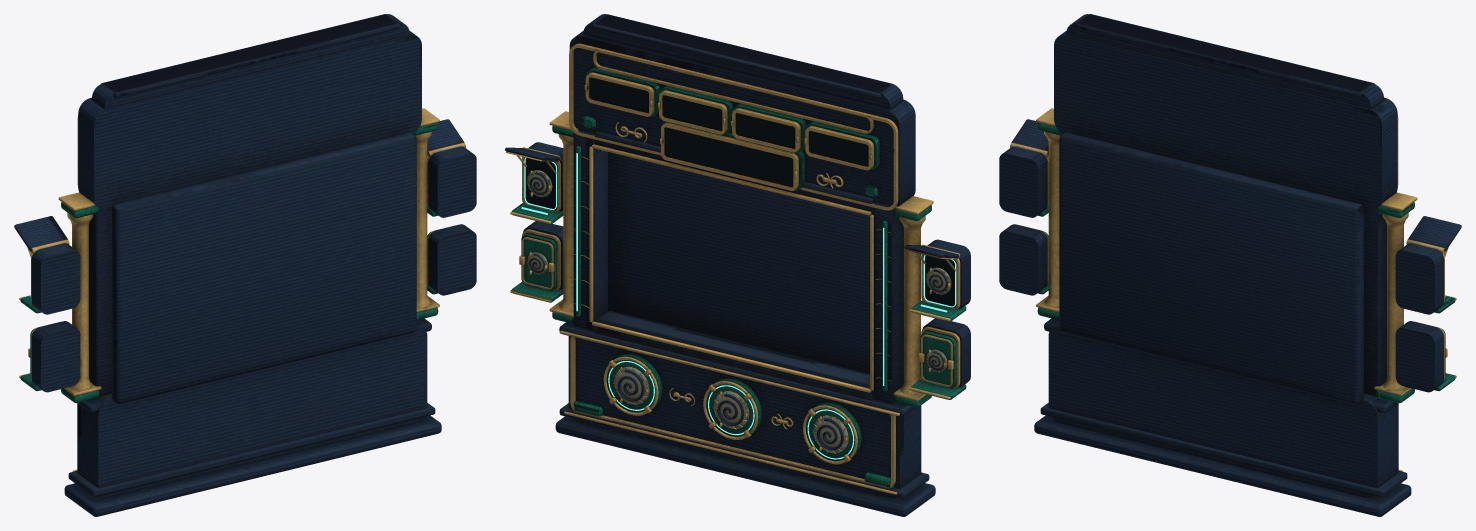
The picture shows the model from 3 angles, left to right: view 1: azimuth 30°, elevation 25°; view 2: azimuth 150°, elevation 25°; view 3: azimuth 330°, elevation 25°; orthographic projection.
Visible parts, largest first — view 1: Navy_fossil_strata, Specimen_mount_gold, Emerald_mineral_enamel; view 2: Navy_fossil_strata, Specimen_mount_gold, Emerald_mineral_enamel, Uniform_dark_display_inset, Pale_fossil_limestone, Excavation_emerald_glow; view 3: Navy_fossil_strata, Specimen_mount_gold, Emerald_mineral_enamel.
Part boxes in pixels (x1,y1,x2,y2): Navy_fossil_strata: [14, 14, 476, 516]; Specimen_mount_gold: [19, 108, 465, 471]; Emerald_mineral_enamel: [20, 122, 438, 403]; Navy_fossil_strata: [505, 14, 970, 516]; Specimen_mount_gold: [506, 43, 960, 494]; Emerald_mineral_enamel: [512, 68, 966, 488]; Uniform_dark_display_inset: [525, 77, 956, 306]; Pale_fossil_limestone: [526, 170, 951, 453]; Excavation_emerald_glow: [521, 153, 956, 459]; Navy_fossil_strata: [999, 14, 1461, 516]; Specimen_mount_gold: [1010, 108, 1456, 471]; Emerald_mineral_enamel: [1037, 122, 1455, 403].
Bounding box in the file's own units: 10.82 × 9.7 × 1.63.
6 materials, 5 textured.
